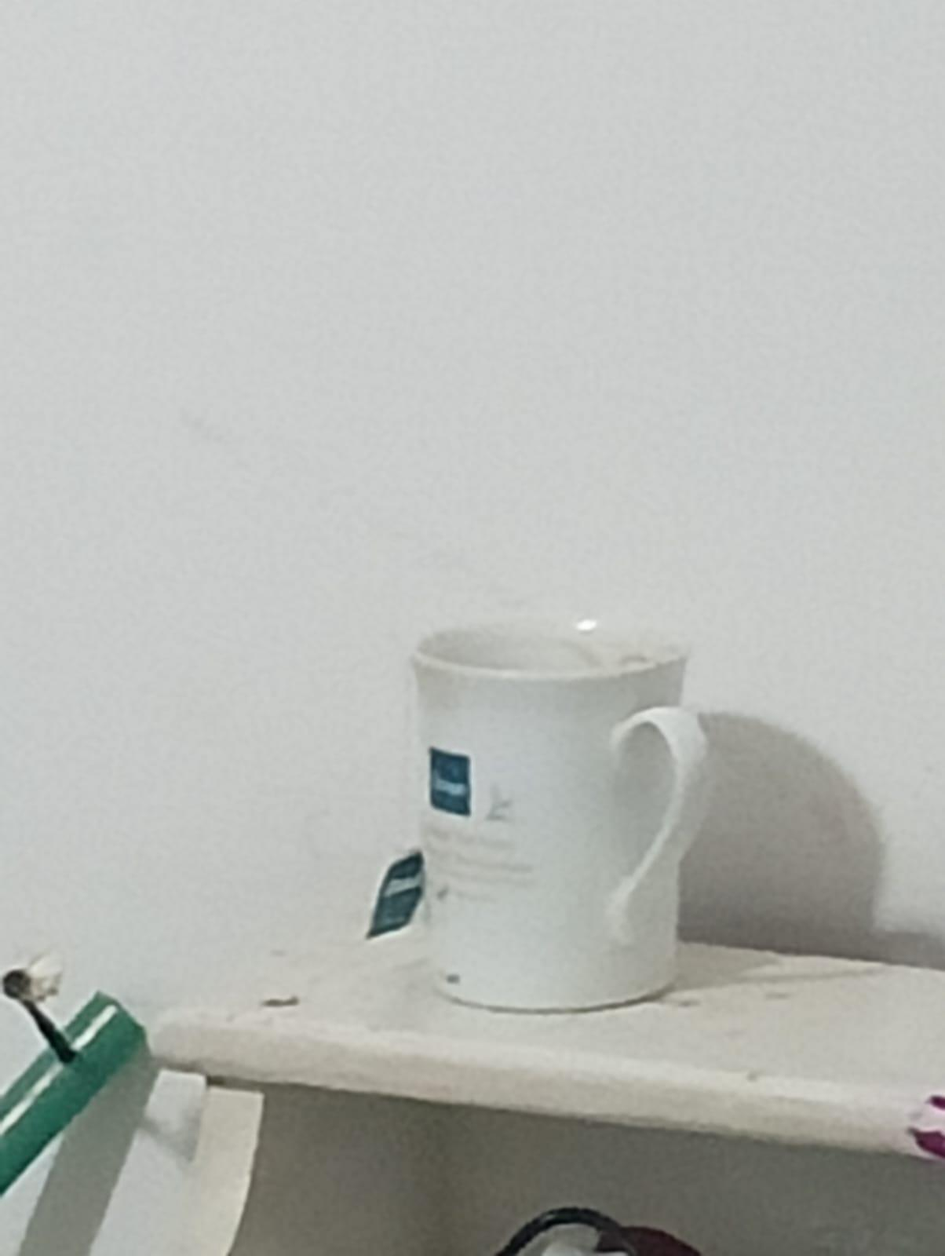cup: (413, 621, 706, 1010)
